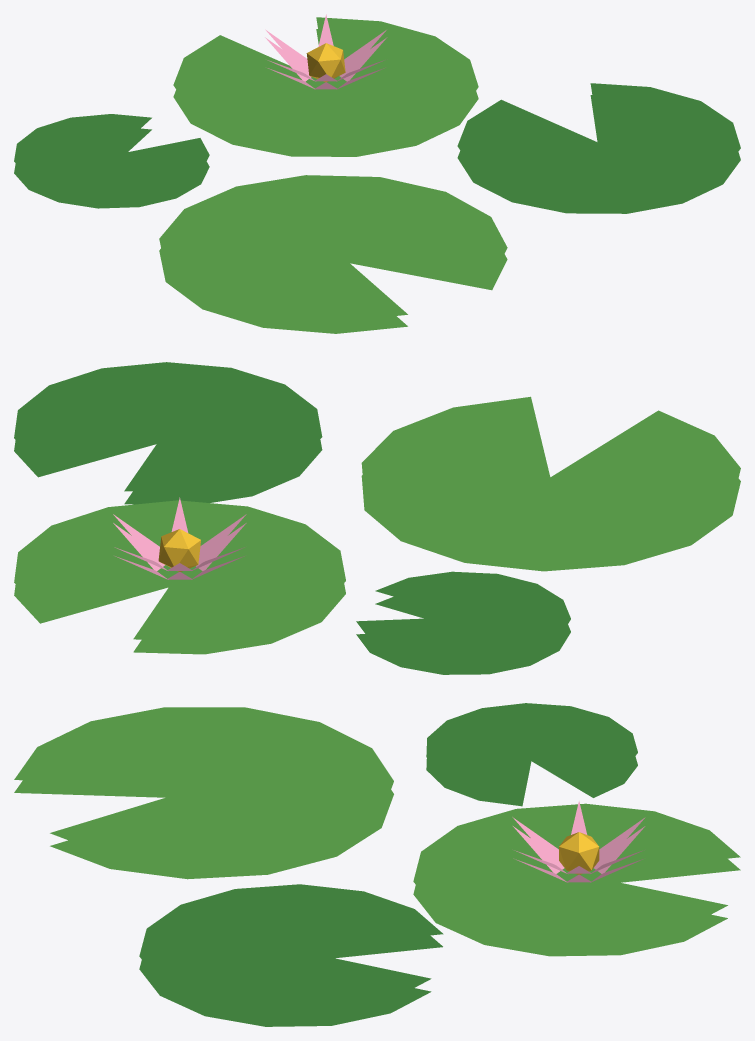
File: lily-pads.glb
3 renders of one model, top to bottom at view 1: azimuth 30°, elevation 25°; view 2: azimuth 150°, elevation 25°; view 3: azimuth 270°, elevation 25°, orthographic. The views are drawn at different scales.
Visible parts, largest first — view 1: lily-pads; view 2: lily-pads; view 3: lily-pads.
Part boxes in pixels (box(x1,y1,x2,y2)): lily-pads: box(14, 14, 740, 333); lily-pads: box(14, 362, 740, 674); lily-pads: box(14, 703, 740, 1026).
Bounding box in the file's own units: 1.24 × 0.102 × 1.22.
